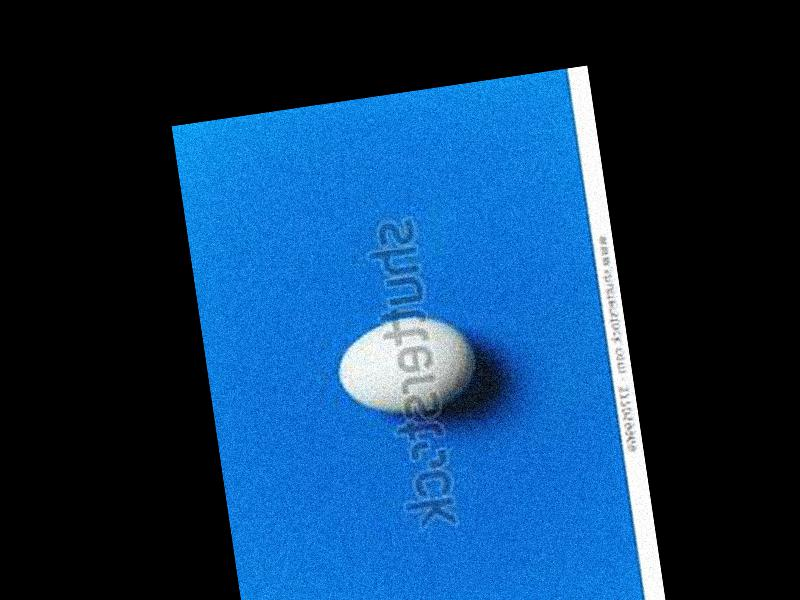Eggs: (328, 311, 481, 422)
